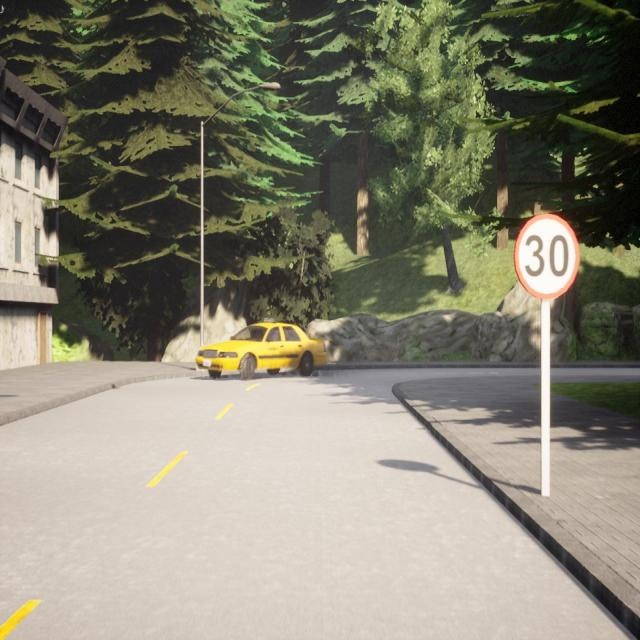Traffic_Signs: (514, 213, 580, 299)
Vehicle: (196, 320, 326, 379)
